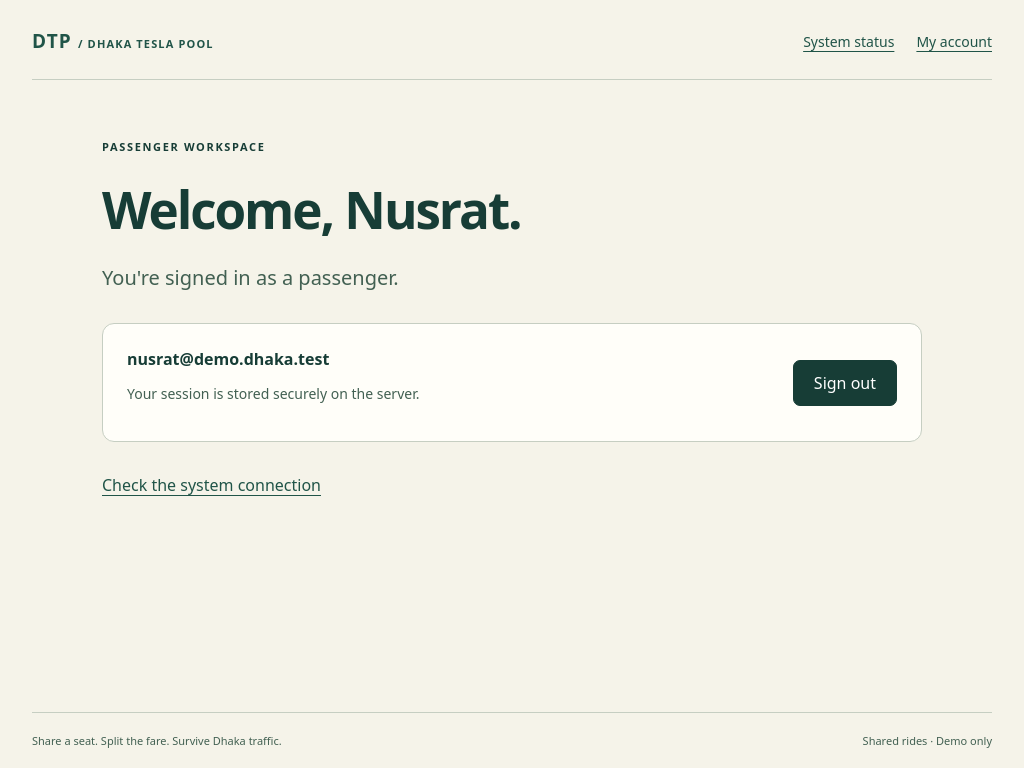
Test: authentication UI › does not report logout success during an outage and allows a user retry
Click the button "Sign out". click: [845, 382]
box: [793, 360, 897, 406]
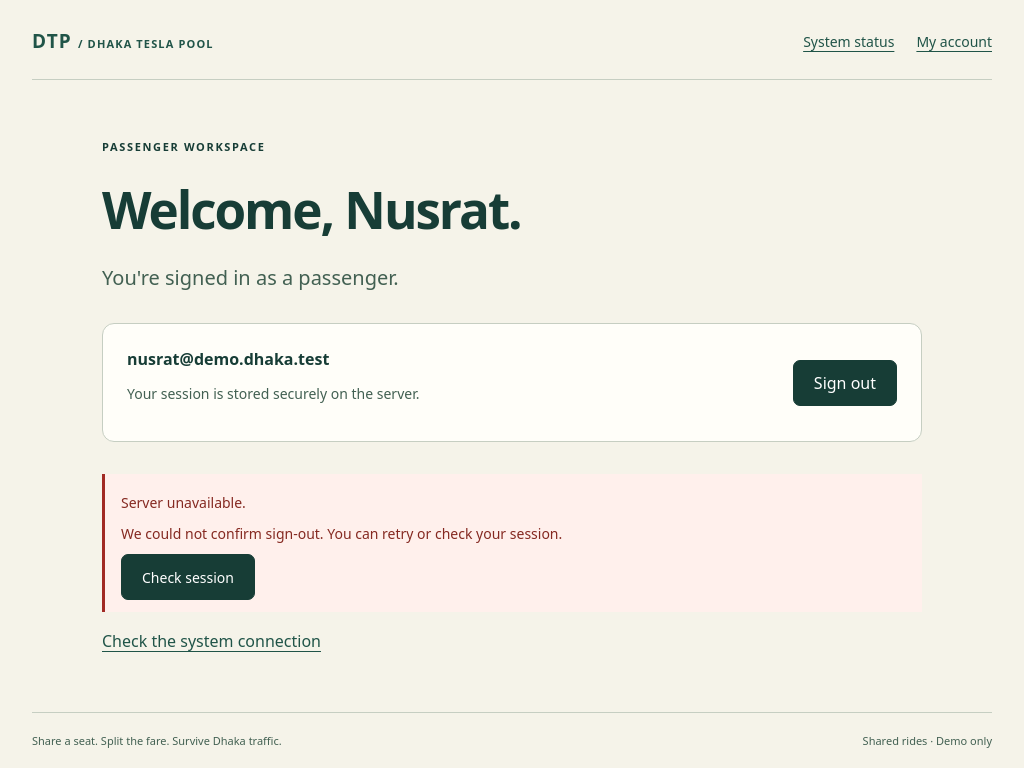
Expected: the heading "Welcome, Nusrat." is shown, [102, 174, 521, 244]
Result: the message shows "Server unavailable." at [121, 493, 246, 512]
Click the button "Sign out". click: [845, 382]
box: [793, 360, 897, 406]
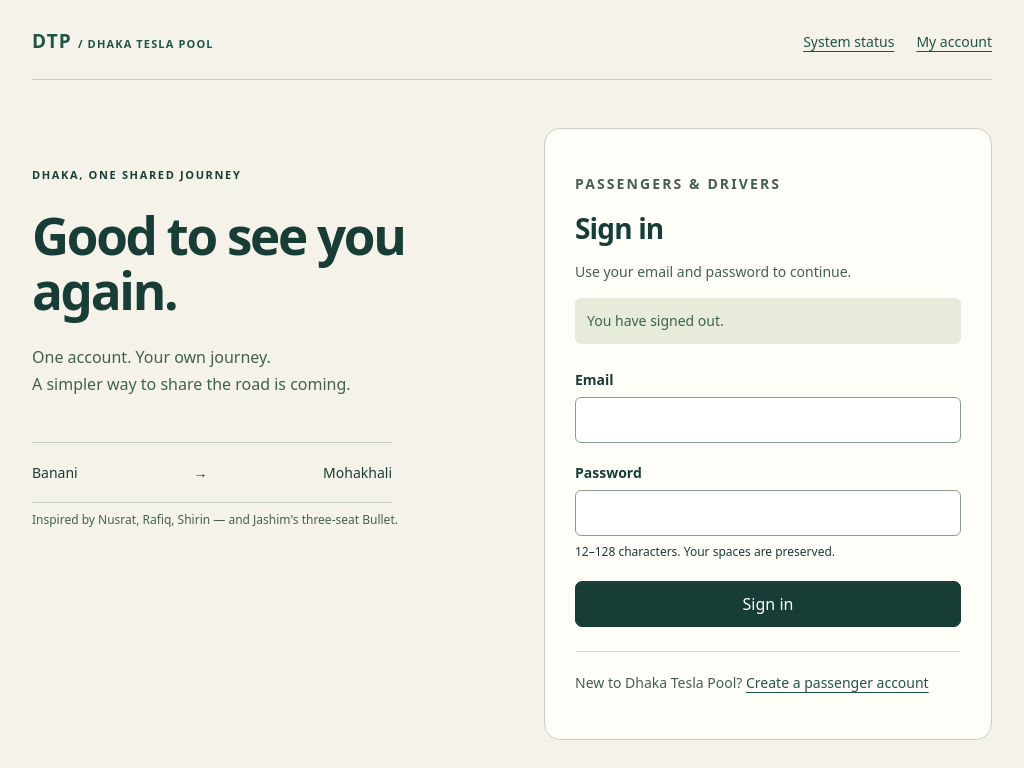
Result: the button "Sign in" is shown at [575, 581, 961, 627]
Result: the message reads "You have signed out." at [587, 311, 724, 330]
